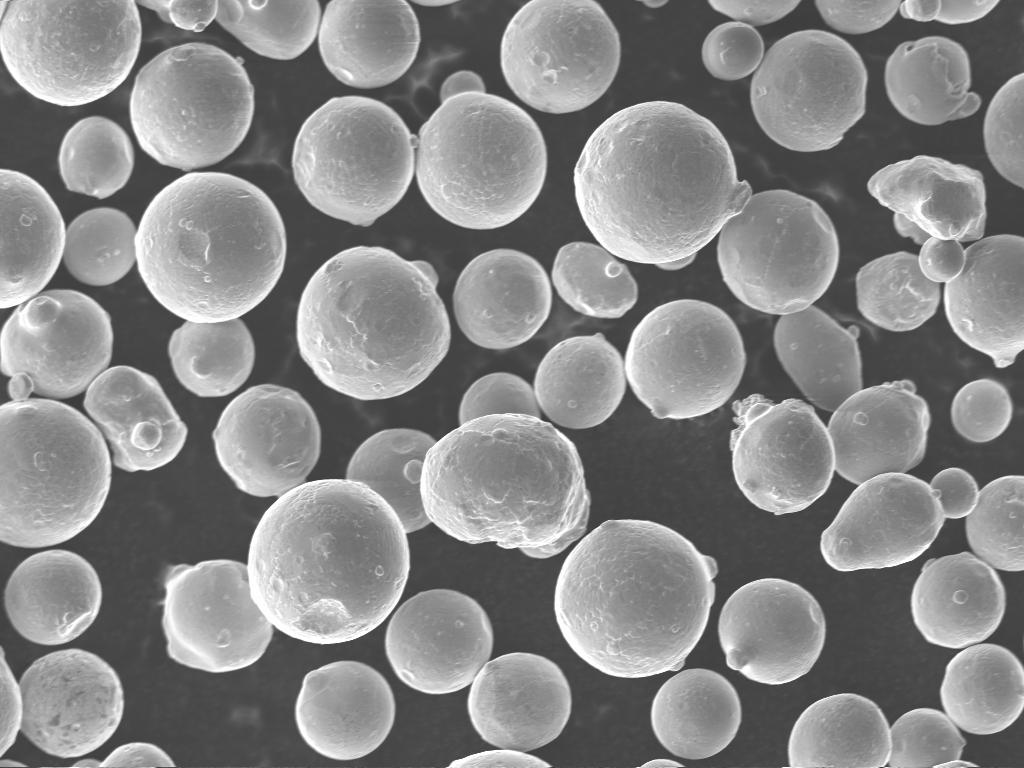Powder: (574, 102, 752, 269), (248, 480, 410, 643), (554, 520, 718, 677), (420, 414, 590, 558), (296, 246, 450, 400), (136, 172, 286, 322), (416, 70, 546, 229), (0, 398, 112, 548), (820, 468, 978, 569), (130, 42, 254, 170), (292, 96, 412, 226), (0, 0, 142, 106), (718, 190, 838, 314), (750, 30, 868, 152), (626, 300, 746, 418), (920, 234, 1024, 367), (502, 0, 620, 113), (730, 394, 836, 514), (0, 290, 114, 400), (162, 560, 272, 672), (212, 384, 320, 497), (718, 578, 826, 683), (20, 648, 124, 757), (386, 590, 494, 694), (84, 366, 188, 471), (138, 0, 322, 59), (828, 380, 930, 484), (468, 652, 572, 751), (870, 156, 986, 244), (296, 660, 396, 760), (454, 248, 552, 349), (774, 306, 862, 411), (4, 550, 102, 643), (346, 430, 436, 531), (0, 170, 66, 307), (912, 552, 1006, 648), (318, 0, 420, 87), (534, 334, 626, 429), (884, 36, 980, 125), (652, 668, 742, 759), (788, 694, 892, 767), (940, 644, 1024, 734), (856, 252, 940, 332), (168, 318, 254, 396), (552, 242, 638, 318), (58, 116, 134, 198), (62, 208, 136, 286), (966, 476, 1024, 570), (984, 74, 1024, 187), (888, 710, 966, 767), (458, 372, 542, 423), (950, 380, 1012, 442), (702, 22, 764, 79), (816, 1, 902, 34), (0, 648, 22, 755), (708, 1, 800, 26), (100, 742, 174, 768), (450, 750, 550, 768), (936, 1, 1000, 23)
